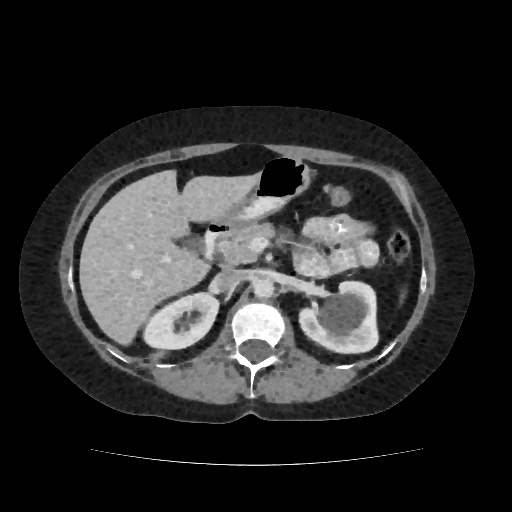Lesion: (313, 294, 370, 341)
